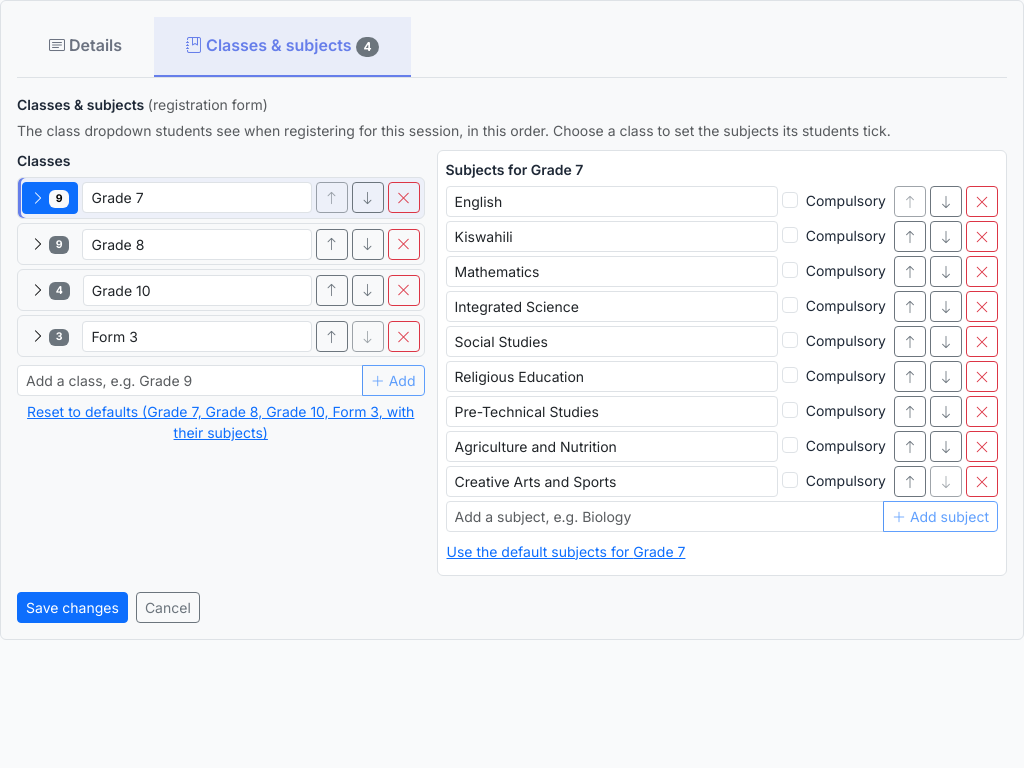
two panes: classes, and the selected class's subjects › a newly added class is selected, ready for its subjects
Type "Adult Class" into the field named "New class name" at (190, 381), box [17,366,363,396]
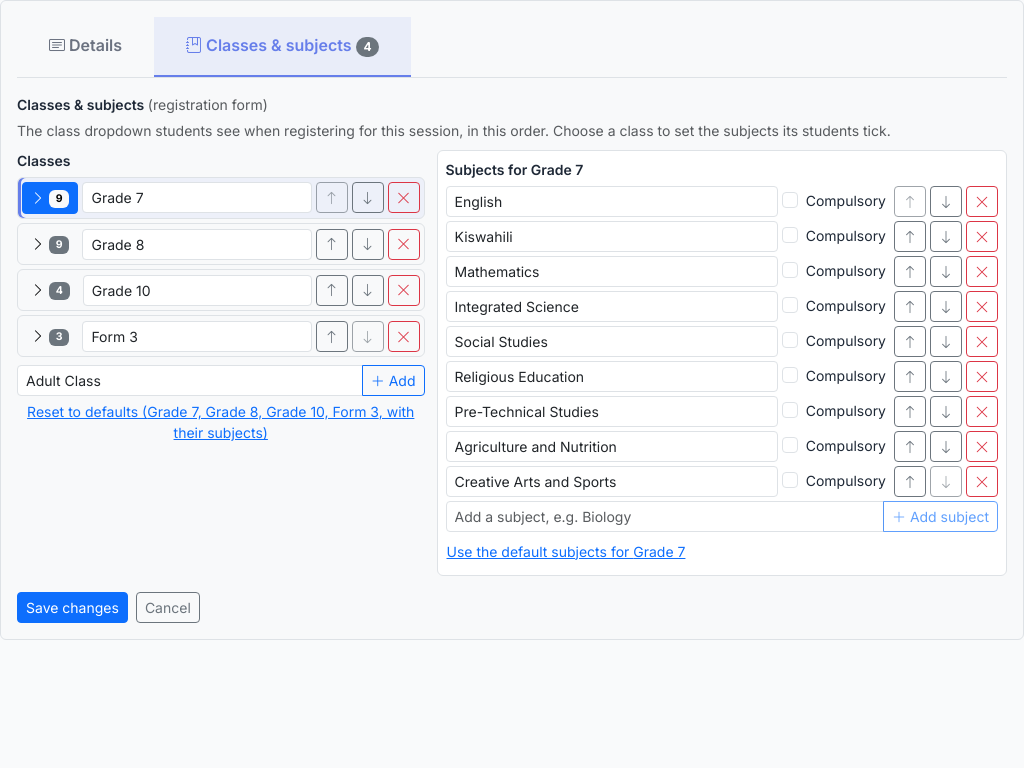
Press Enter in the field named "New class name", box [17,366,363,396]
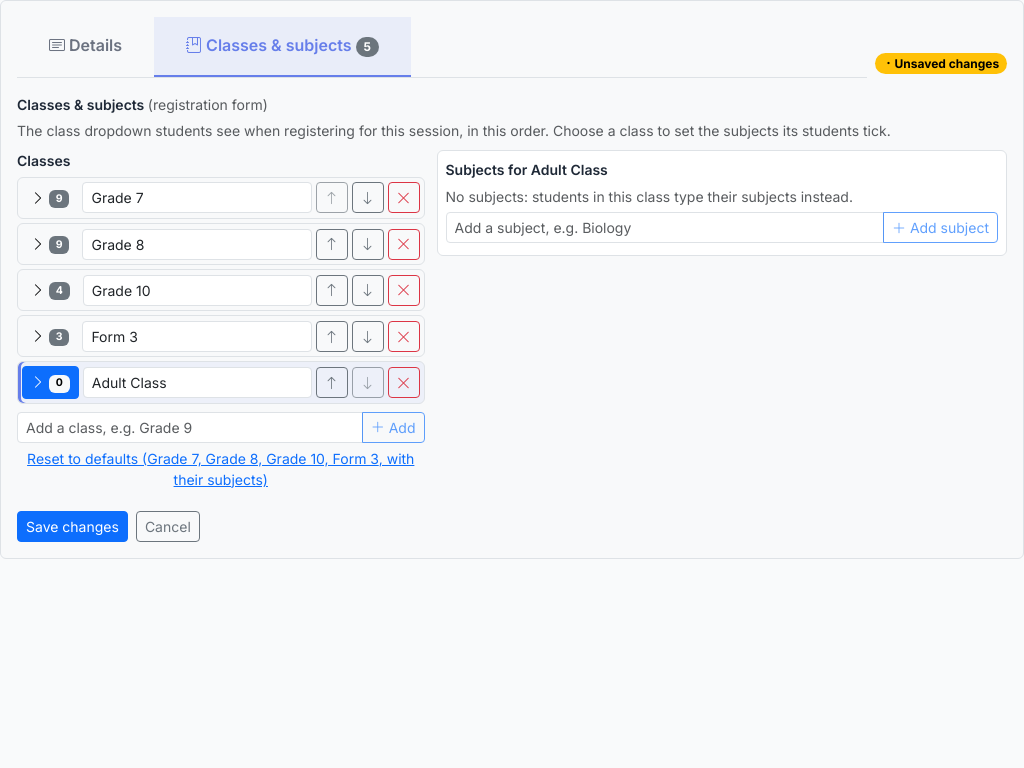
Expected: the text "students in this class type their subjects instead" is shown, [446,188,853,205]
